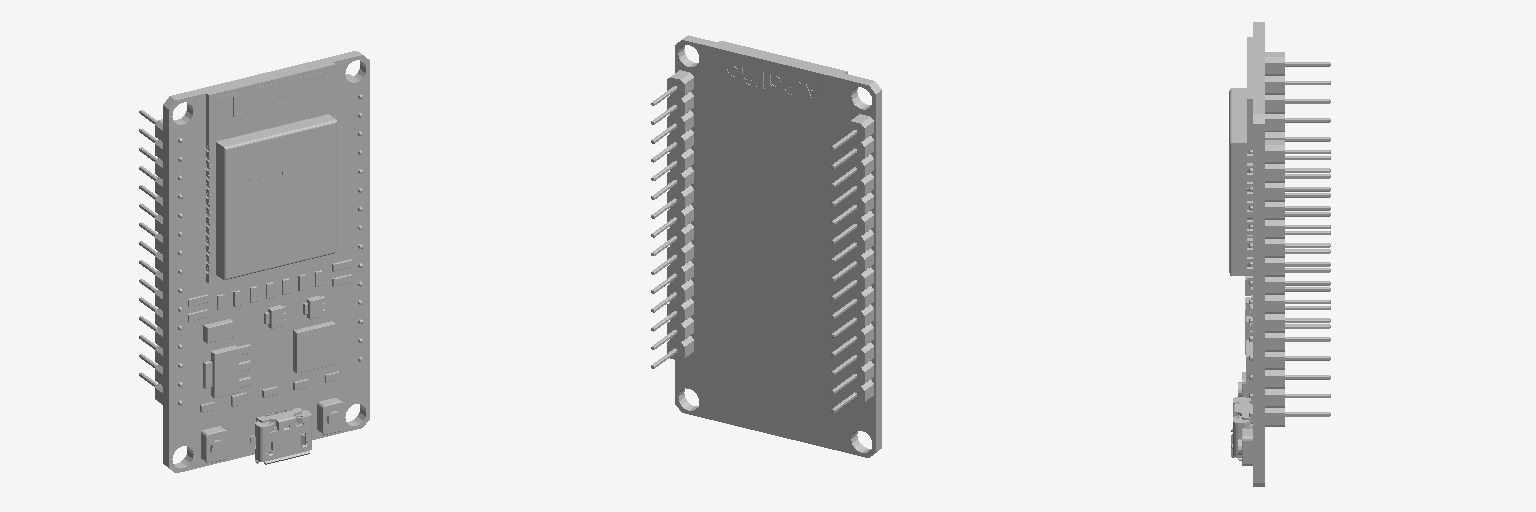
Rendered from ESP-32 DevKitV1_v1.obj.
The picture shows the model from 3 angles: view 1: azimuth 30°, elevation 25°; view 2: azimuth 150°, elevation 25°; view 3: azimuth 270°, elevation 25°; orthographic projection.
Visible parts, largest first — view 1: Solid1, Solid1:2, Solid1:1; view 2: Solid1; view 3: Solid1, Solid1:2, Solid1:1.
Part boxes in pixels (left/top/right/bottom): Solid1: left=139, top=51, right=369, bottom=472; Solid1:2: left=206, top=62, right=336, bottom=283; Solid1:1: left=250, top=407, right=311, bottom=464; Solid1: left=651, top=35, right=881, bottom=457; Solid1: left=1238, top=22, right=1330, bottom=486; Solid1:2: left=1229, top=37, right=1253, bottom=286; Solid1:1: left=1231, top=397, right=1252, bottom=460.
Bounding box in the file's own units: 28.5 × 50.93 × 12.4.